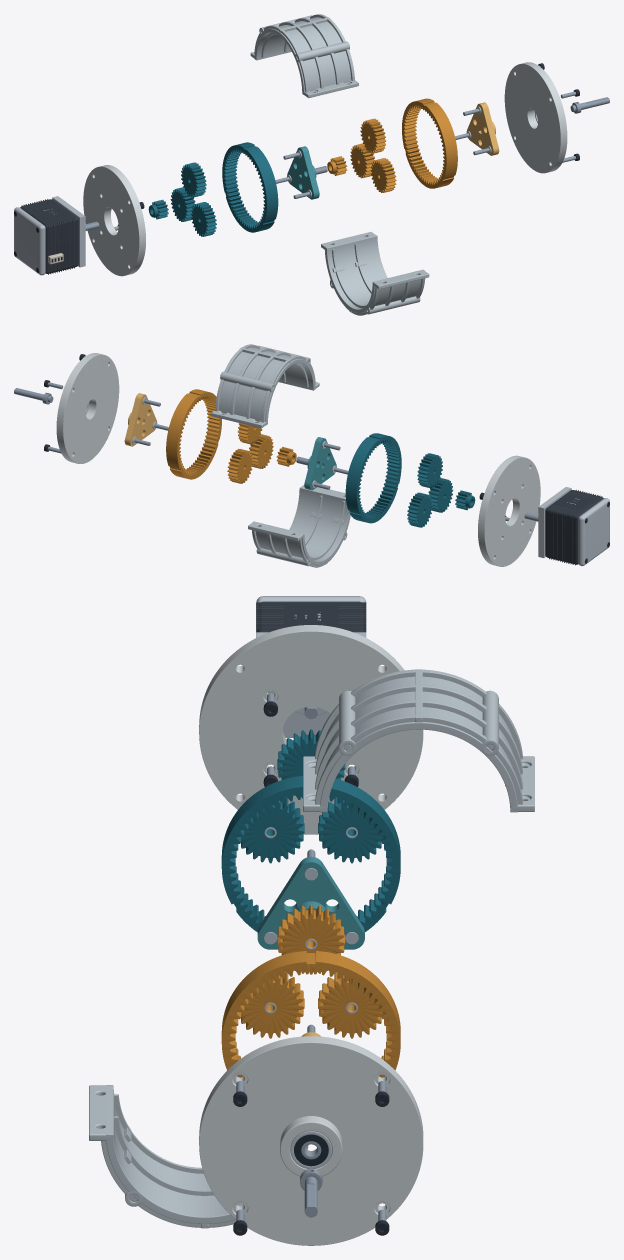
The picture shows the model from 3 angles, top to bottom: view 1: azimuth 30°, elevation 25°; view 2: azimuth 150°, elevation 25°; view 3: azimuth 270°, elevation 25°; orthographic projection. The views are drawn at different scales.
Parts seen in each view (by area): view 1: 30.01 | PLA output end cover.001, 02.01 | front flange | 31 square M3 and diameter 22 pilot.00, 41.01 | PLA split shell | 3 mm wall.001, 40.01 | PLA split shell | 3 mm wall.001, 10.30 | RING 1 | m1 z60 | FIXED.001, 20.30 | RING 2 | m1 z60 | FIXED.001, 01.01 | NEMA17 | 42 x 42 x 40 mm body.001, 01.03 | rear aluminium endbell.001, 10.40 | stage 1 three-lobe carrier.001, 20.40 | stage 2 three-lobe carrier.001, 20.21 | PLANET 2.1 | m1 z24.001, 10.21 | PLANET 1.1 | m1 z24.001 (+7 smaller); view 2: 30.01 | PLA output end cover.001, 02.01 | front flange | 31 square M3 and diameter 22 pilot.00, 41.01 | PLA split shell | 3 mm wall.001, 40.01 | PLA split shell | 3 mm wall.001, 10.30 | RING 1 | m1 z60 | FIXED.001, 20.30 | RING 2 | m1 z60 | FIXED.001, 01.01 | NEMA17 | 42 x 42 x 40 mm body.001, 01.03 | rear aluminium endbell.001, 10.40 | stage 1 three-lobe carrier.001, 20.40 | stage 2 three-lobe carrier.001, 10.23 | PLANET 1.3 | m1 z24.001, 10.21 | PLANET 1.1 | m1 z24.001 (+14 smaller); view 3: 30.01 | PLA output end cover.001, 02.01 | front flange | 31 square M3 and diameter 22 pilot.00, 10.30 | RING 1 | m1 z60 | FIXED.001, 20.30 | RING 2 | m1 z60 | FIXED.001, 40.01 | PLA split shell | 3 mm wall.001, 41.01 | PLA split shell | 3 mm wall.001, 10.40 | stage 1 three-lobe carrier.001, 20.22 | PLANET 2.2 | m1 z24.001, 10.22 | PLANET 1.2 | m1 z24.001, 20.23 | PLANET 2.3 | m1 z24.001, 10.23 | PLANET 1.3 | m1 z24.001, 20.21 | PLANET 2.1 | m1 z24.001 (+12 smaller).
Boxes of the visible parts, x1,y1,x2,y2 form: 30.01 | PLA output end cover.001: (504,62,567,173); 02.01 | front flange | 31 square M3 and diameter 22 pilot.00: (83,165,145,276); 41.01 | PLA split shell | 3 mm wall.001: (325,234,424,313); 40.01 | PLA split shell | 3 mm wall.001: (254,17,351,94); 10.30 | RING 1 | m1 z60 | FIXED.001: (222,142,278,232); 20.30 | RING 2 | m1 z60 | FIXED.001: (402,98,457,188); 01.01 | NEMA17 | 42 x 42 x 40 mm body.001: (20,199,78,273); 01.03 | rear aluminium endbell.001: (14,207,45,275); 10.40 | stage 1 three-lobe carrier.001: (287,146,319,199); 20.40 | stage 2 three-lobe carrier.001: (466,102,499,155); 20.21 | PLANET 2.1 | m1 z24.001: (360,118,386,153); 10.21 | PLANET 1.1 | m1 z24.001: (181,162,206,197); 30.01 | PLA output end cover.001: (56,353,119,463); 02.01 | front flange | 31 square M3 and diameter 22 pilot.00: (478,455,540,566); 41.01 | PLA split shell | 3 mm wall.001: (252,486,350,565); 40.01 | PLA split shell | 3 mm wall.001: (219,347,315,425); 10.30 | RING 1 | m1 z60 | FIXED.001: (345,433,401,523); 20.30 | RING 2 | m1 z60 | FIXED.001: (166,389,221,479); 01.01 | NEMA17 | 42 x 42 x 40 mm body.001: (545,490,603,564); 01.03 | rear aluminium endbell.001: (578,498,609,566); 10.40 | stage 1 three-lobe carrier.001: (304,437,336,490); 20.40 | stage 2 three-lobe carrier.001: (124,393,157,446); 10.23 | PLANET 1.3 | m1 z24.001: (407,492,432,527); 10.21 | PLANET 1.1 | m1 z24.001: (417,453,442,488); 30.01 | PLA output end cover.001: (199,1036,423,1245); 02.01 | front flange | 31 square M3 and diameter 22 pilot.00: (199,625,423,834); 10.30 | RING 1 | m1 z60 | FIXED.001: (221,776,400,932); 20.30 | RING 2 | m1 z60 | FIXED.001: (221,951,400,1077); 40.01 | PLA split shell | 3 mm wall.001: (320,676,517,812); 41.01 | PLA split shell | 3 mm wall.001: (106,1085,243,1224); 10.40 | stage 1 three-lobe carrier.001: (257,856,364,949); 20.22 | PLANET 2.2 | m1 z24.001: (241,972,304,1038); 10.22 | PLANET 1.2 | m1 z24.001: (241,797,304,863); 20.23 | PLANET 2.3 | m1 z24.001: (318,972,381,1038); 10.23 | PLANET 1.3 | m1 z24.001: (318,797,381,863); 20.21 | PLANET 2.1 | m1 z24.001: (277,904,345,974).
Bounding box in the file's own units: 0.5152 × 0.2092 × 0.171.
